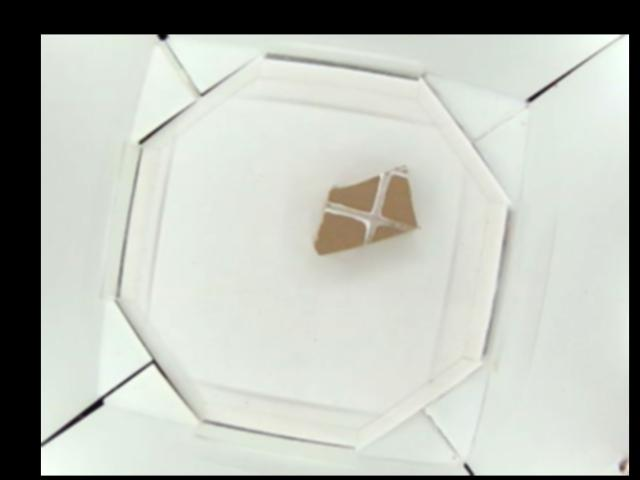China: (312, 163, 418, 256)
